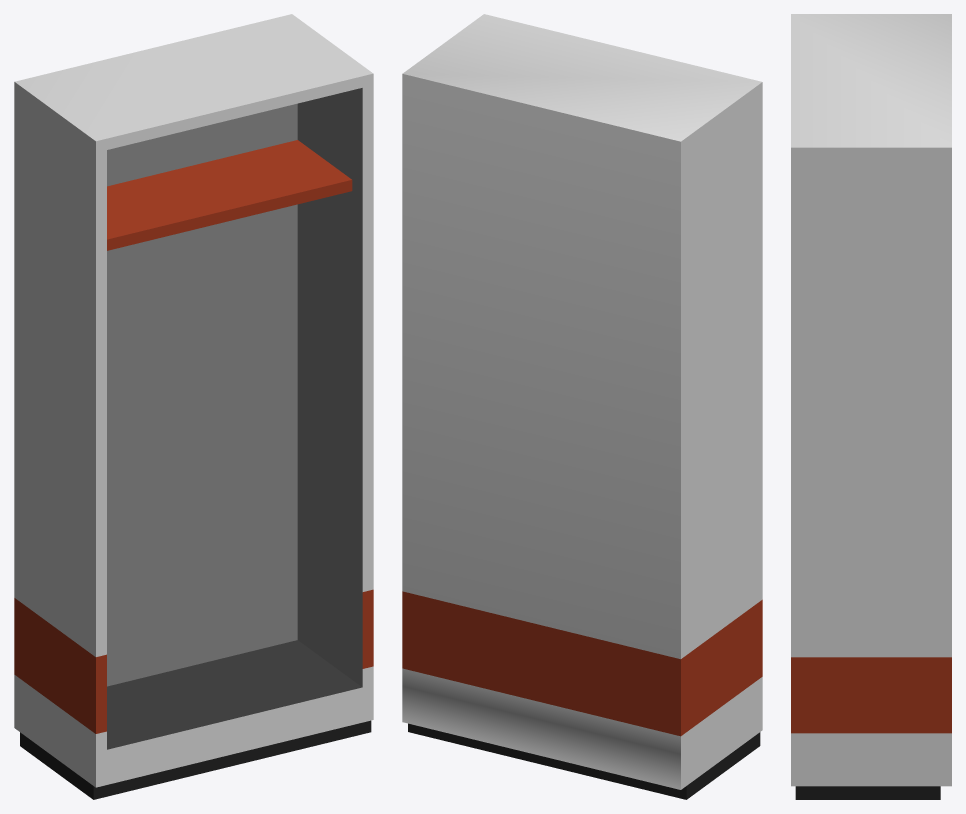
The model's file is drawer_3.glb.
3 views of the same model, side by side, from view 1: azimuth 30°, elevation 25°; view 2: azimuth 150°, elevation 25°; view 3: azimuth 270°, elevation 25° (orthographic).
Parts seen in each view (by area): view 1: Drawer_1; view 2: Drawer_1; view 3: Drawer_1.
Boxes of the visible parts, x1,y1,x2,y2 form: Drawer_1: (14,14,373,799); Drawer_1: (402,14,762,799); Drawer_1: (791,14,951,799).
Size of the model in its own units: 0.8 by 1.82 by 0.4063.
1 material, 1 textured.
